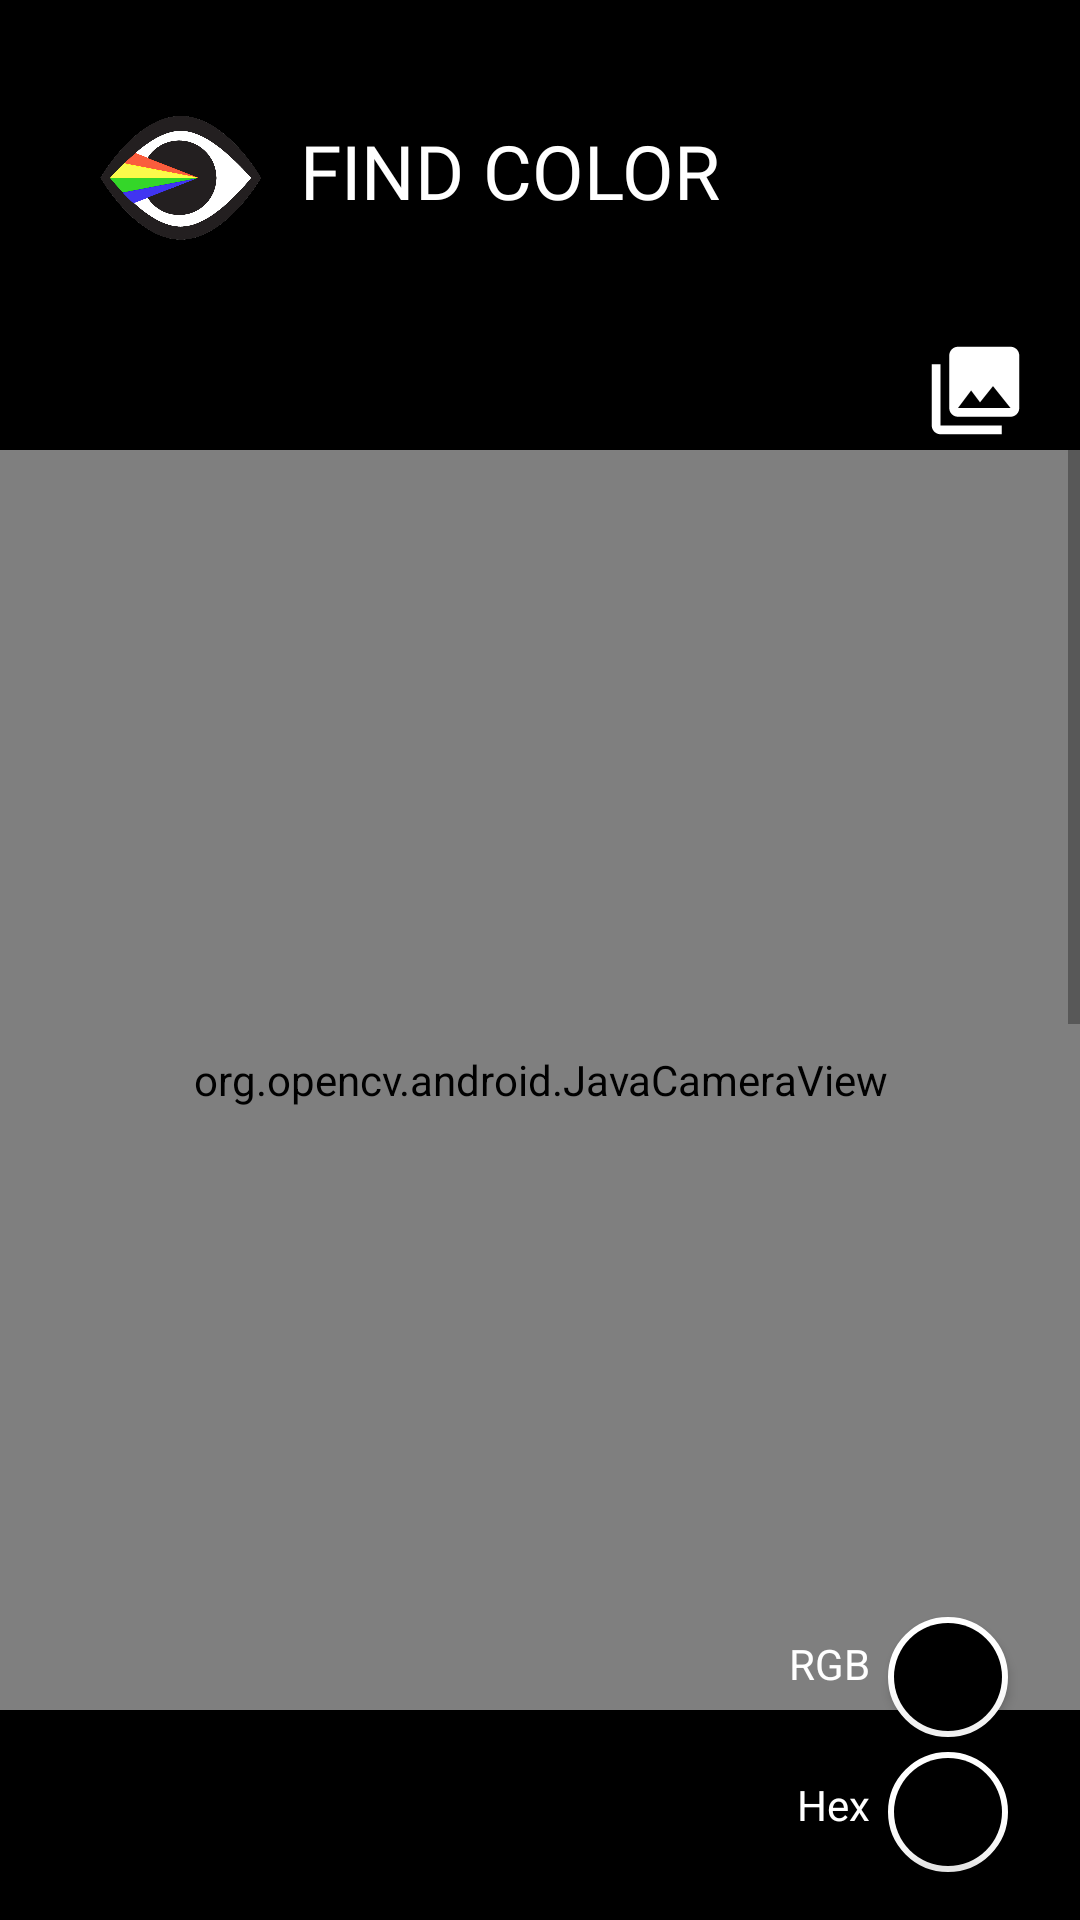

Icon click points for this 1080px x 1920px phone screenshot, format [x,y]:
photo library: [975,390]
